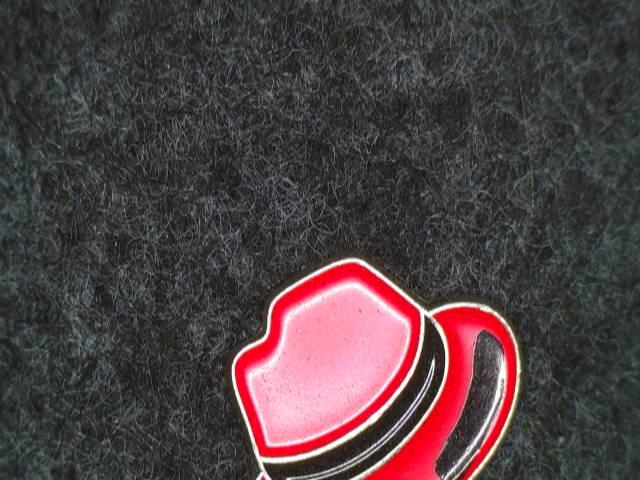Red-Hat: (186, 228, 551, 480)
Scratch: (430, 314, 517, 480)
